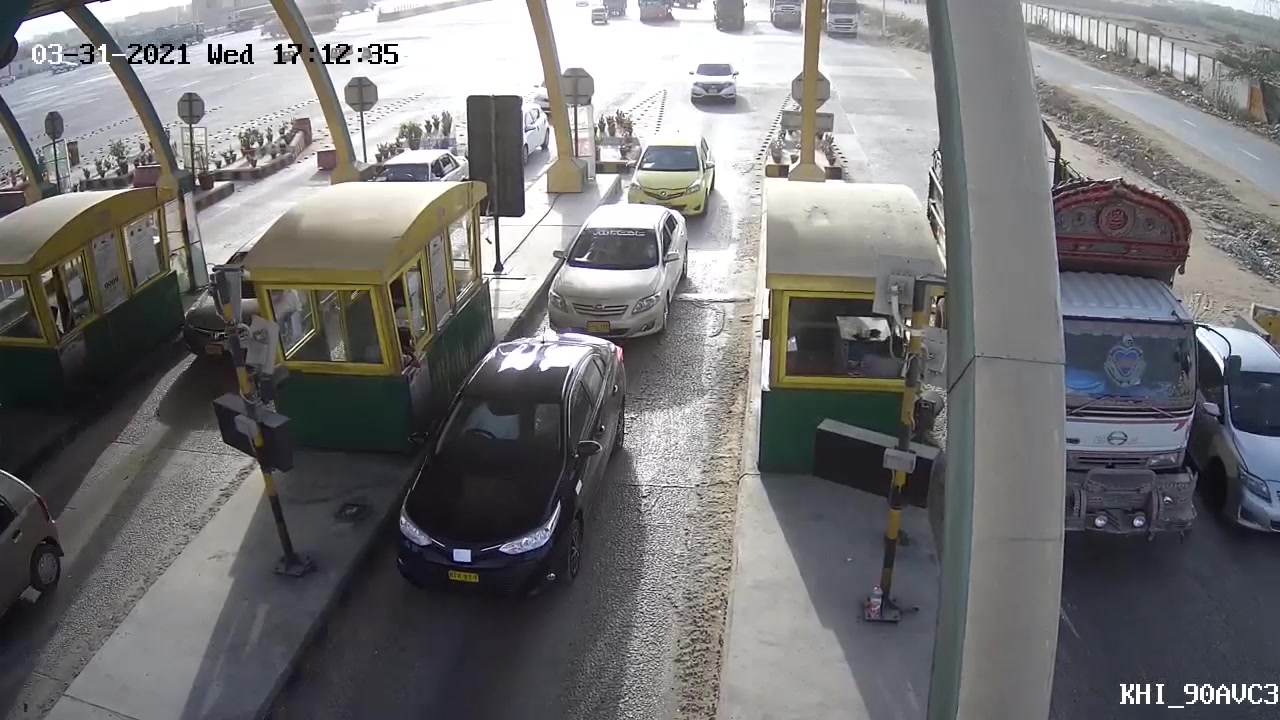F1: (370, 331, 621, 598), (542, 202, 692, 342), (623, 132, 719, 217)
